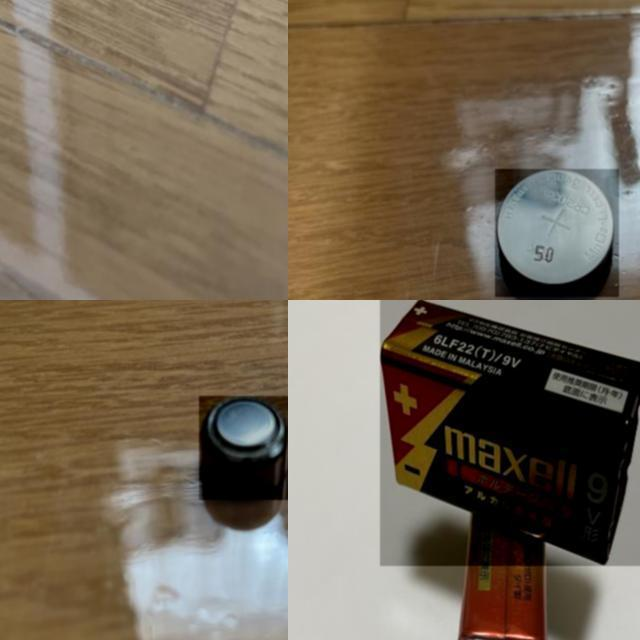9V: (380, 300, 640, 566), (458, 508, 548, 640)
